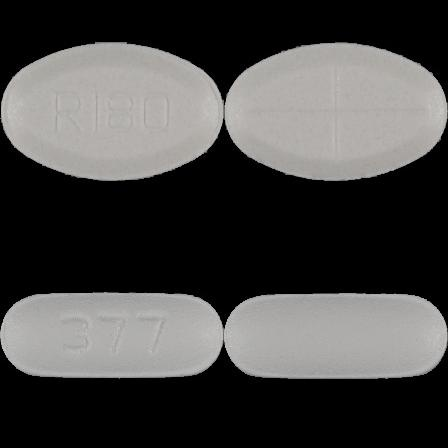16590-221: (0, 0, 224, 224)
